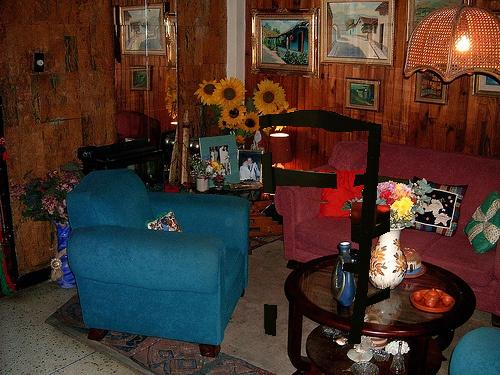tampered: (260, 111, 390, 344)
